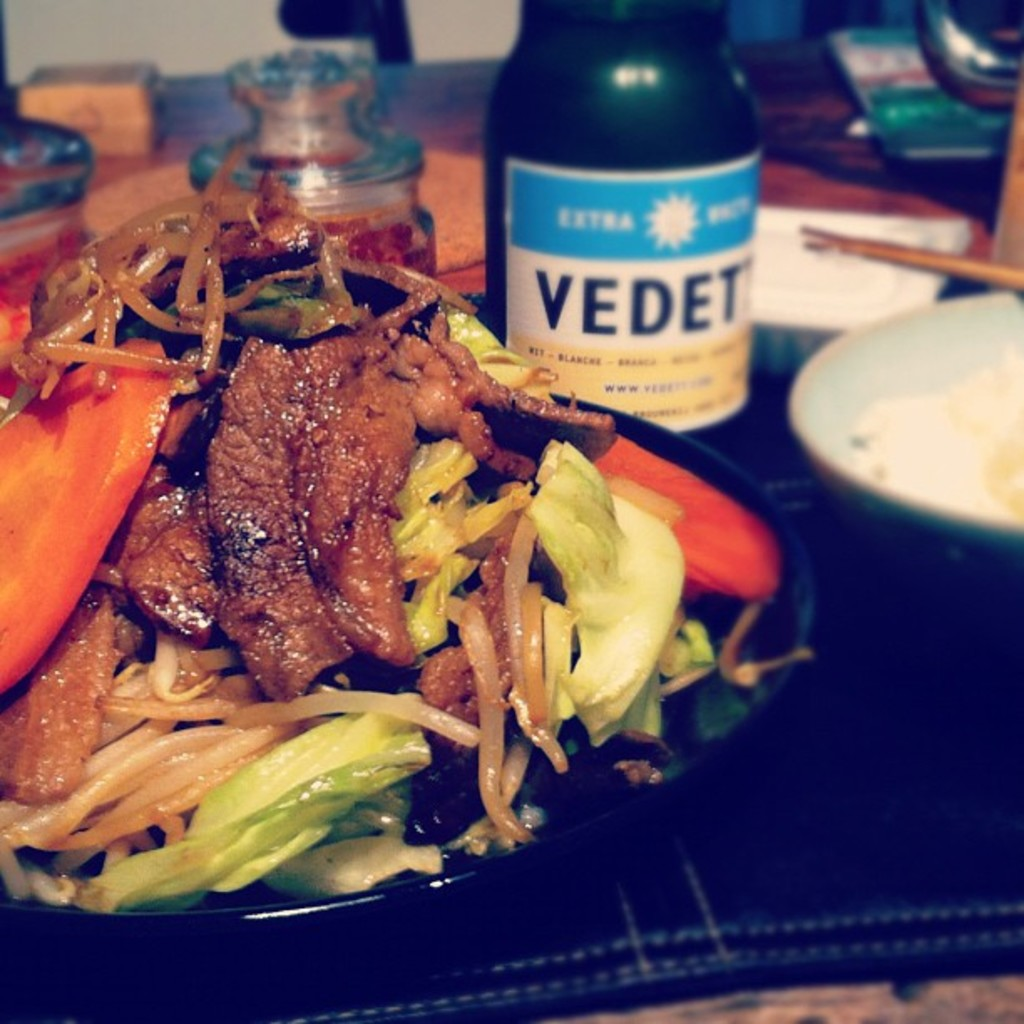salad: (0, 152, 785, 915)
